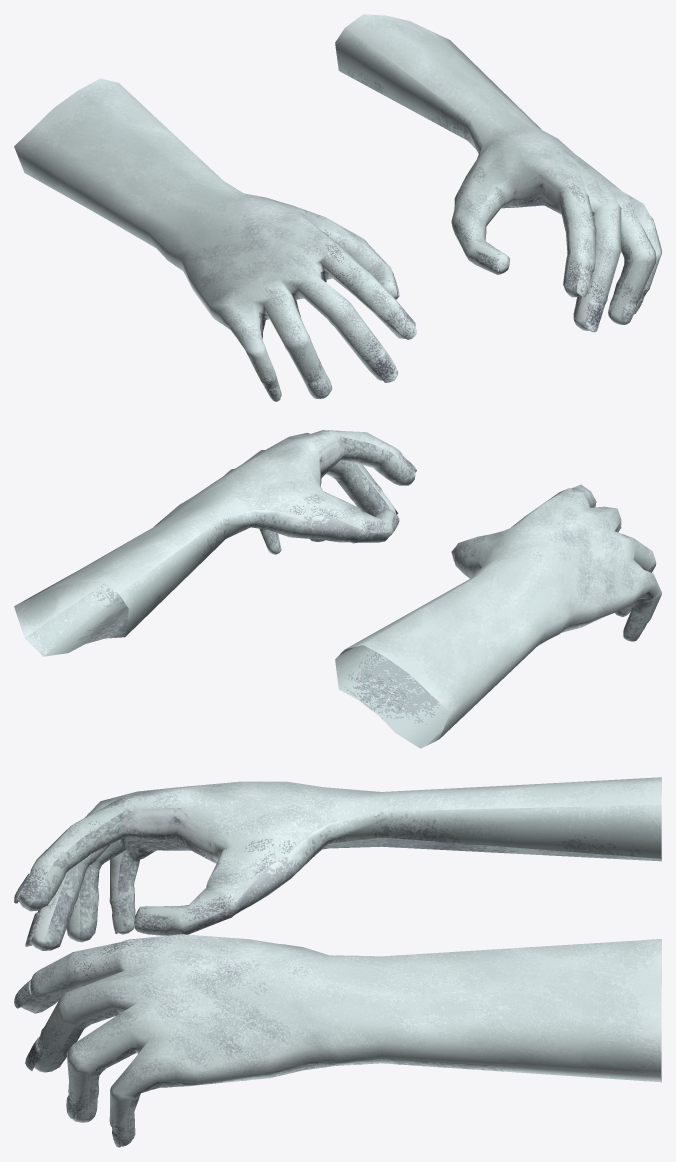
File: HandMD.fbx
3 renders of one model, top to bottom at view 1: azimuth 30°, elevation 25°; view 2: azimuth 150°, elevation 25°; view 3: azimuth 270°, elevation 25°, orthographic. The views are drawn at different scales.
Parts seen in each view (by area): view 1: handMD2, handMD1; view 2: handMD2, handMD1; view 3: handMD1, handMD2.
Part boxes in pixels (box(x1,y1,x2,y2)): handMD2: box(14, 78, 416, 401); handMD1: box(335, 14, 661, 332); handMD2: box(335, 484, 661, 748); handMD1: box(14, 430, 416, 656); handMD1: box(14, 934, 661, 1147); handMD2: box(14, 777, 661, 950).
Bounding box in the file's own units: 29.39 × 9.49 × 31.09.
